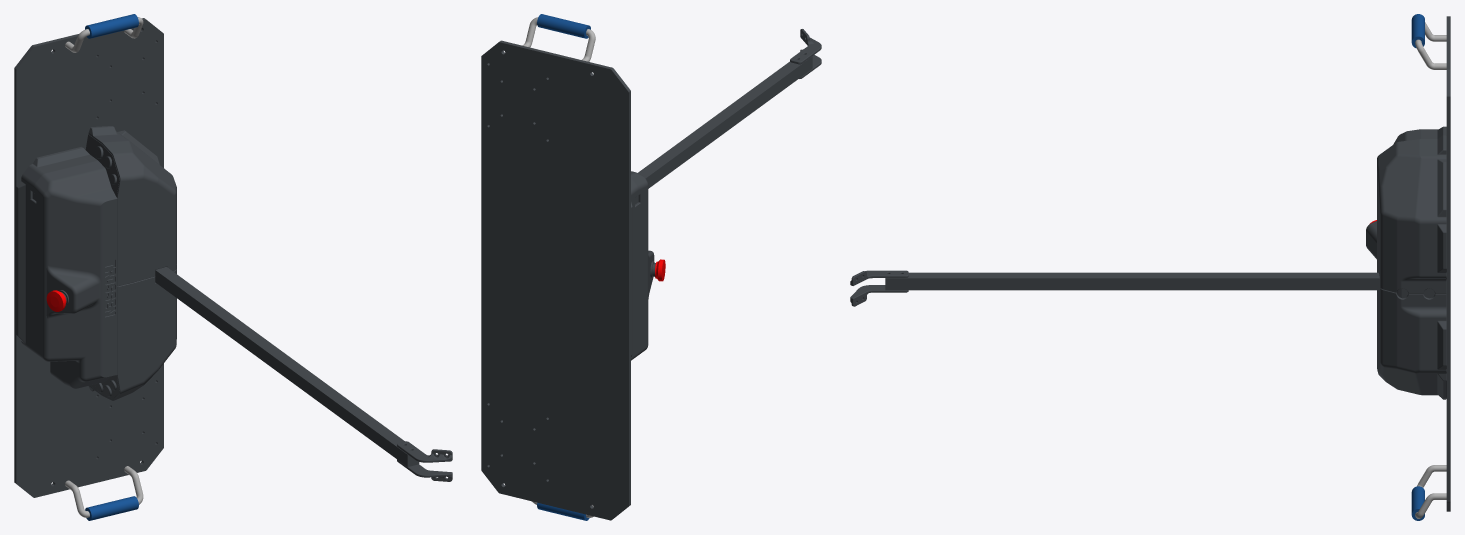
Rendered from workbench_base.obj.
3 views of the same model, side by side, from view 1: azimuth 30°, elevation 25°; view 2: azimuth 150°, elevation 25°; view 3: azimuth 270°, elevation 25° (orthographic). The views are drawn at different scales.
Bounding box in the file's own units: 0.2504 × 0.8 × 0.8989.
